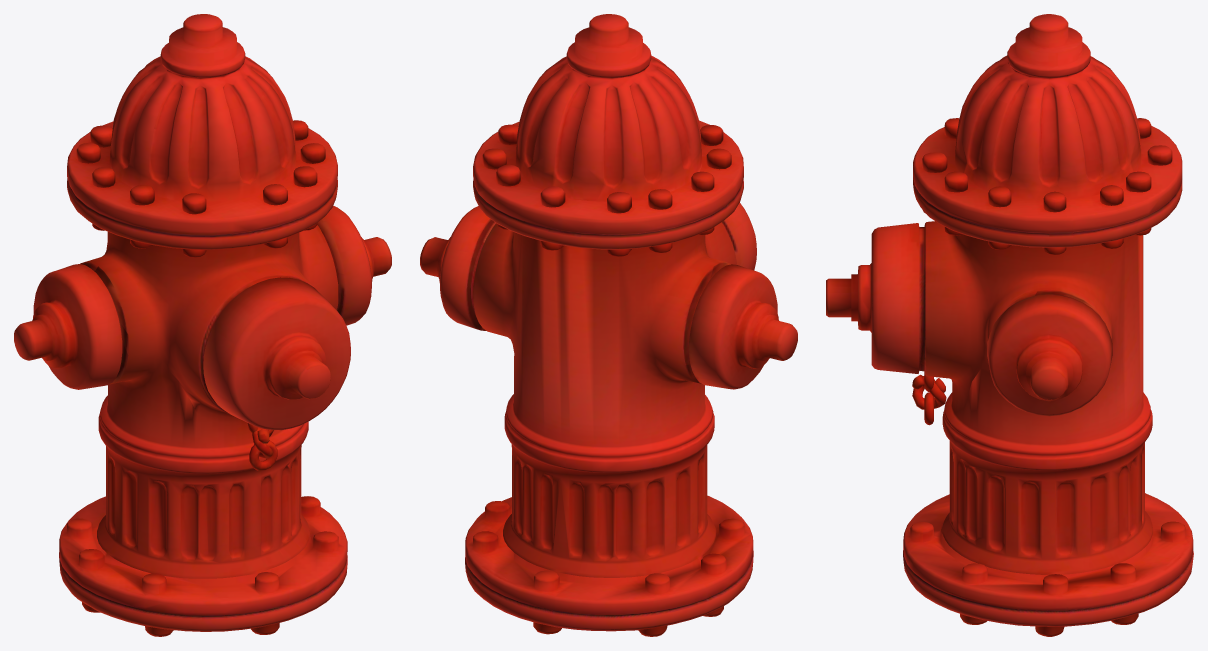
File: fire_hydrant_ba0175c1_v3.glb
3 views of the same model, side by side, from view 1: azimuth 30°, elevation 25°; view 2: azimuth 150°, elevation 25°; view 3: azimuth 270°, elevation 25° (orthographic).
Parts seen in each view (by area): view 1: material; view 2: material; view 3: material.
Part boxes in pixels (x1,y1,x2,y2): material: (14, 14, 391, 636); material: (420, 14, 797, 636); material: (826, 14, 1193, 636).
Size of the model in its own units: 1.28 by 1.9 by 1.13.
Materials: 1 (1 with a texture image).
